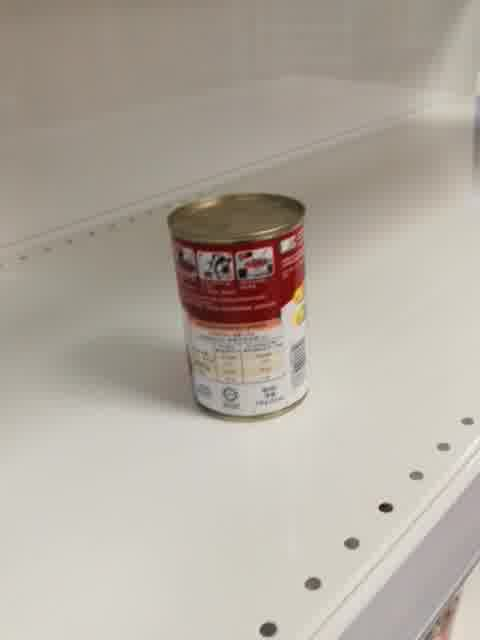tomatosoup: (165, 191, 312, 424)
